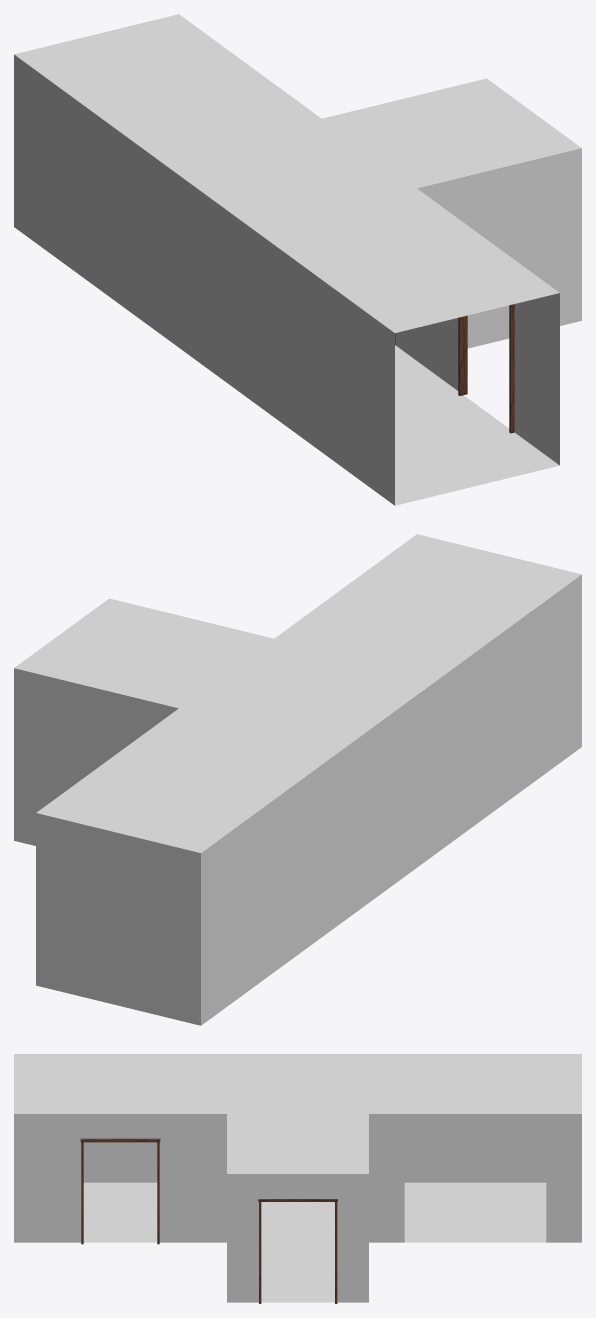
Rendered from tshapedhallway.fbx.
3 views of the same model, one above another, from view 1: azimuth 30°, elevation 25°; view 2: azimuth 150°, elevation 25°; view 3: azimuth 270°, elevation 25° (orthographic). The views are drawn at different scales.
Visible parts, largest first — view 1: T-Shaped Four-Door Hallway; view 2: T-Shaped Four-Door Hallway; view 3: T-Shaped Four-Door Hallway.
Boxes of the visible parts, x1,y1,x2,y2 form: T-Shaped Four-Door Hallway: (14, 14, 581, 505); T-Shaped Four-Door Hallway: (14, 534, 581, 1025); T-Shaped Four-Door Hallway: (14, 1054, 581, 1303).
Size of the model in its own units: 631 by 313 by 1250.
Materials: 3 (1 with a texture image).
